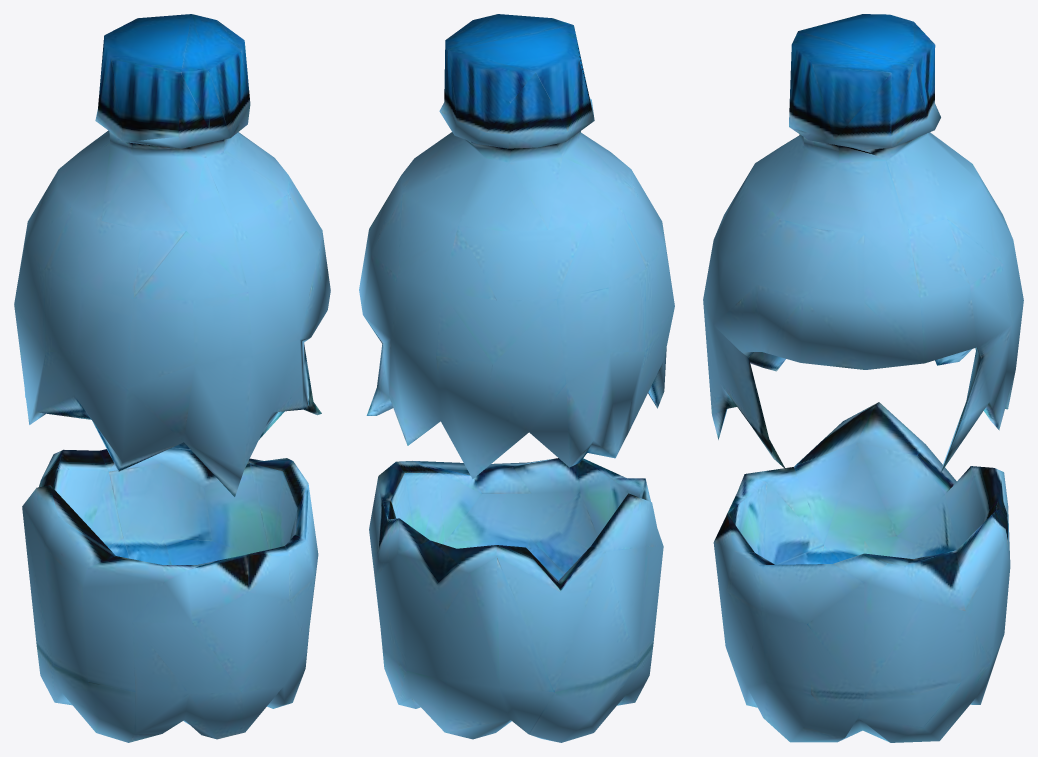
File: plastic.glb
3 views of the same model, side by side, from view 1: azimuth 30°, elevation 25°; view 2: azimuth 150°, elevation 25°; view 3: azimuth 270°, elevation 25° (orthographic).
Size of the model in its own units: 0.8024 by 1.92 by 0.8396.
Materials: 1 (1 with a texture image).
